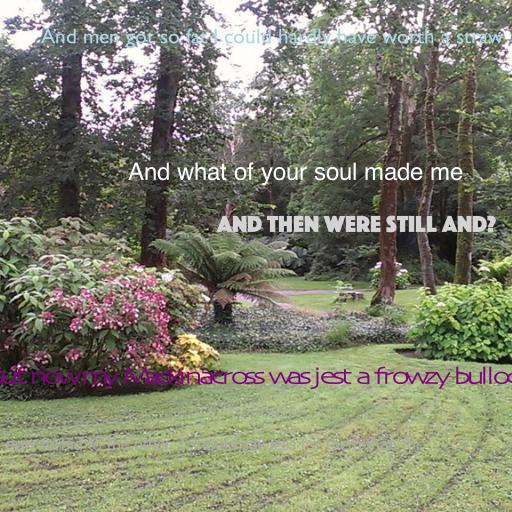Gill Sans: (41, 28, 503, 49)
Helvetica: (127, 162, 463, 186)
Phosphate: (216, 215, 496, 233)
Skia: (0, 366, 512, 390)
Tahoma: (6, 437, 422, 454)
